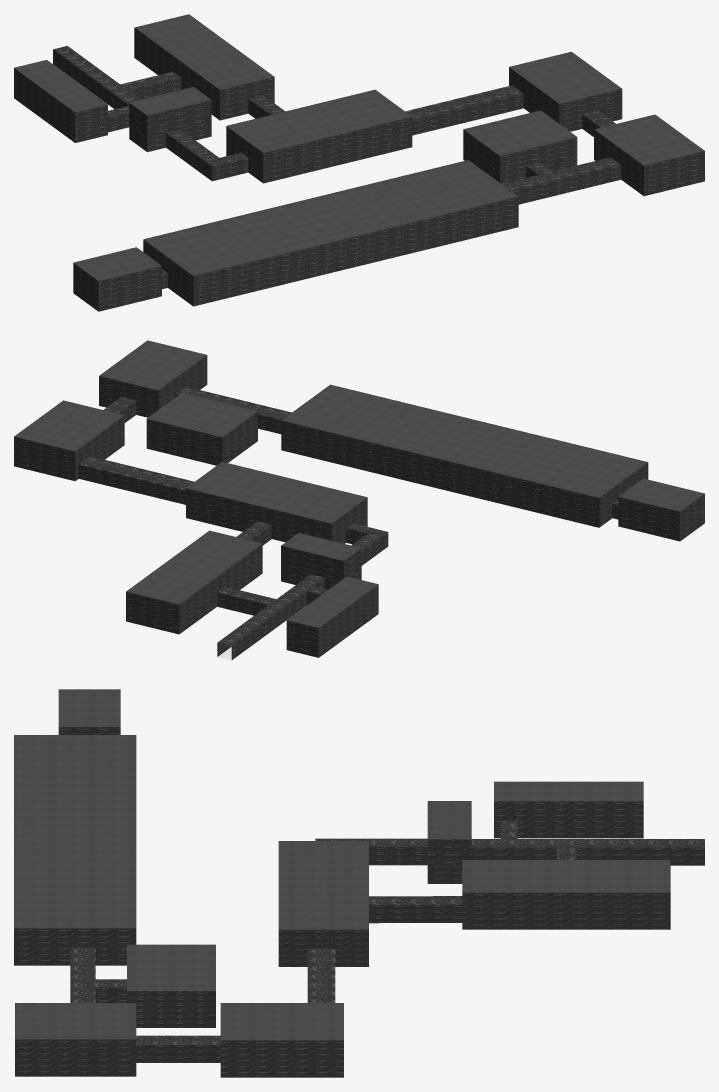
The model's file is UNDERbase.obj.
The picture shows the model from 3 angles, top to bottom: view 1: azimuth 30°, elevation 25°; view 2: azimuth 150°, elevation 25°; view 3: azimuth 270°, elevation 25°; orthographic projection. The views are drawn at different scales.
Parts seen in each view (by area): view 1: Cube; view 2: Cube; view 3: Cube.
Part boxes in pixels (<box>): Cube: <box>14,14,704,311</box>; Cube: <box>14,340,704,660</box>; Cube: <box>14,689,704,1077</box>.
Bounding box in the file's own units: 342 × 20.25 × 284.
